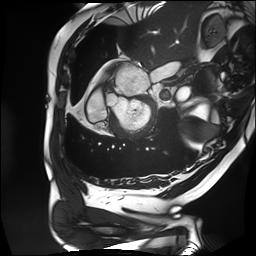ventricle: (105, 91, 151, 132)
